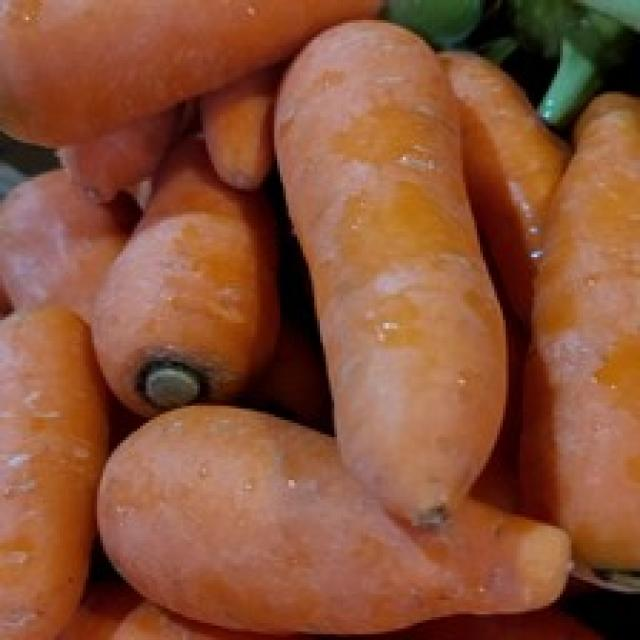Fresh_Carrot: (278, 75, 466, 392)
